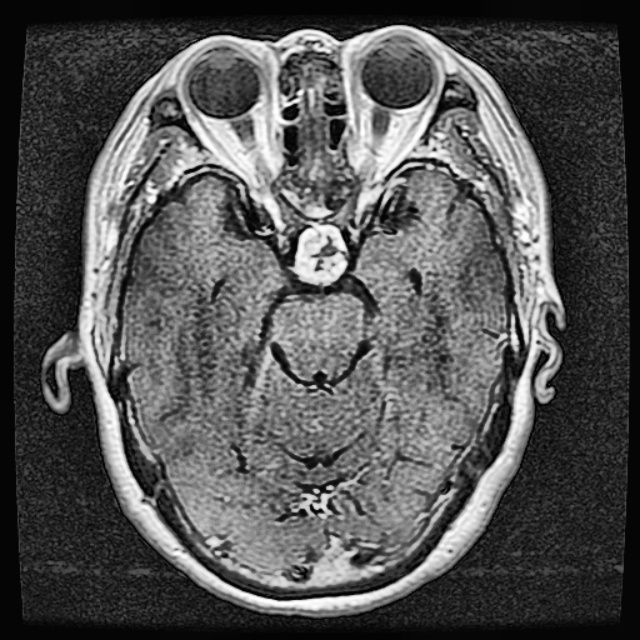Pituitary: (292, 223, 347, 285)
